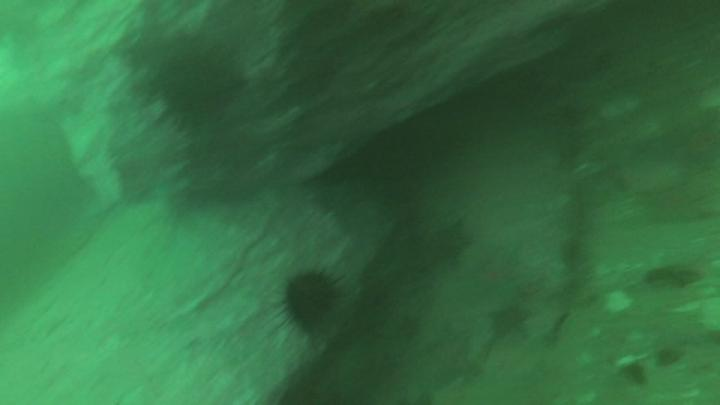echinus: (159, 50, 235, 125), (286, 271, 340, 329)
starfish: (428, 223, 472, 267), (489, 304, 531, 337)
